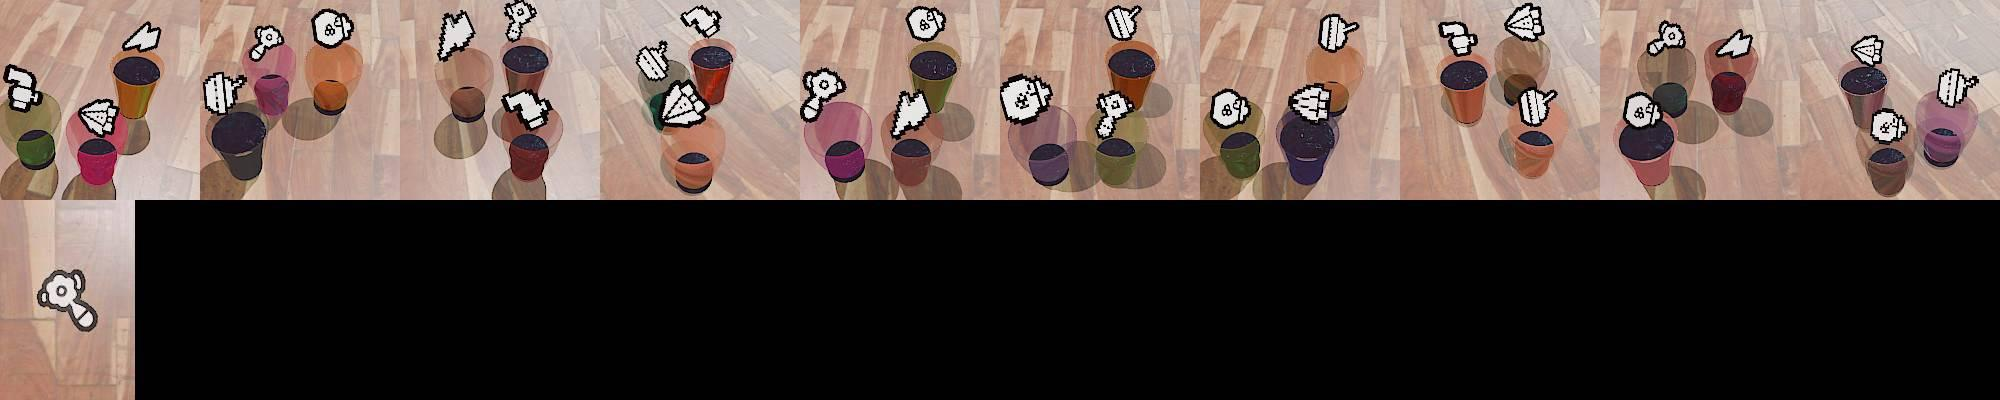icon: (36, 267, 99, 333), (998, 73, 1051, 124), (800, 66, 849, 121), (659, 79, 710, 127), (889, 87, 932, 138), (201, 69, 247, 116), (436, 9, 476, 63), (500, 88, 551, 130), (1093, 89, 1133, 141), (3, 64, 42, 112), (1208, 87, 1251, 130), (310, 8, 354, 50), (1936, 67, 1982, 107), (1516, 83, 1558, 126), (1288, 82, 1333, 122), (1318, 12, 1360, 54), (77, 97, 120, 137), (1504, 2, 1545, 42), (1104, 4, 1146, 43), (247, 23, 287, 63), (1622, 90, 1662, 130), (634, 40, 672, 82), (1438, 21, 1480, 59), (905, 5, 946, 42), (1870, 107, 1909, 145), (1646, 20, 1686, 57), (503, 0, 538, 42), (679, 5, 722, 39), (1713, 28, 1754, 59), (122, 21, 161, 52), (1851, 34, 1885, 66)
